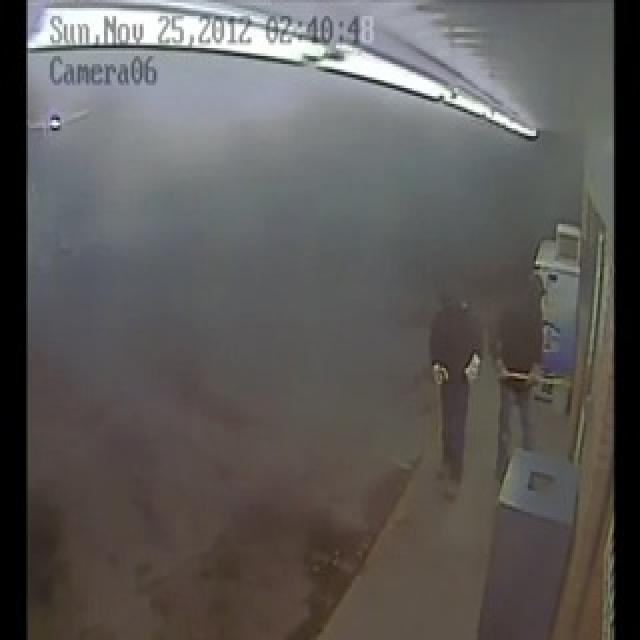thief: (490, 263, 557, 454), (430, 272, 482, 489)
